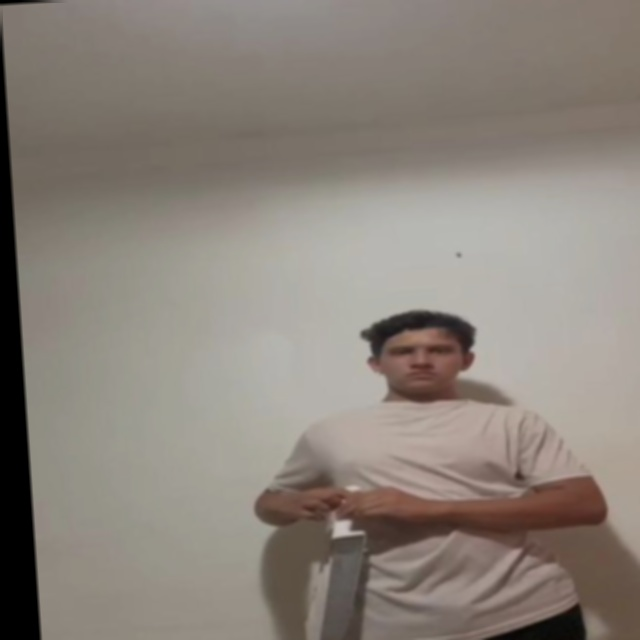Sharp-Object: (306, 533, 376, 640)
